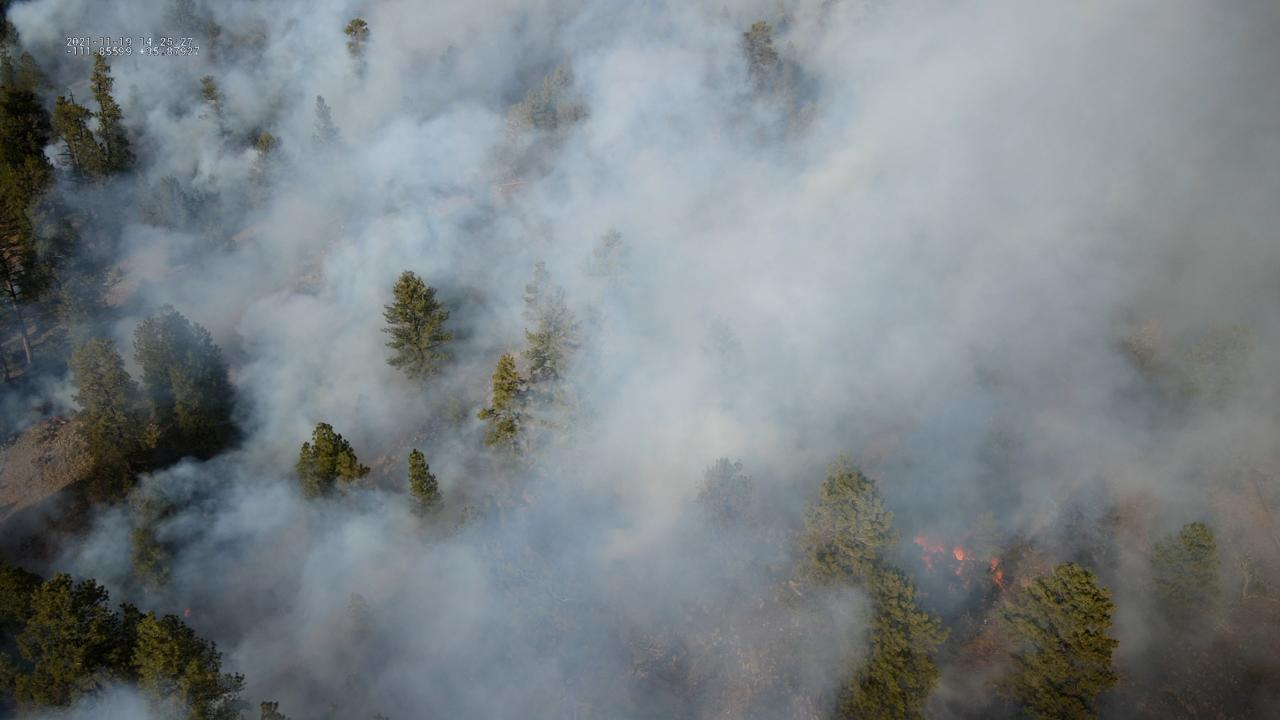fire: (912, 534, 947, 573), (951, 543, 976, 578), (988, 555, 1005, 584)
smoke: (0, 0, 1280, 720)
